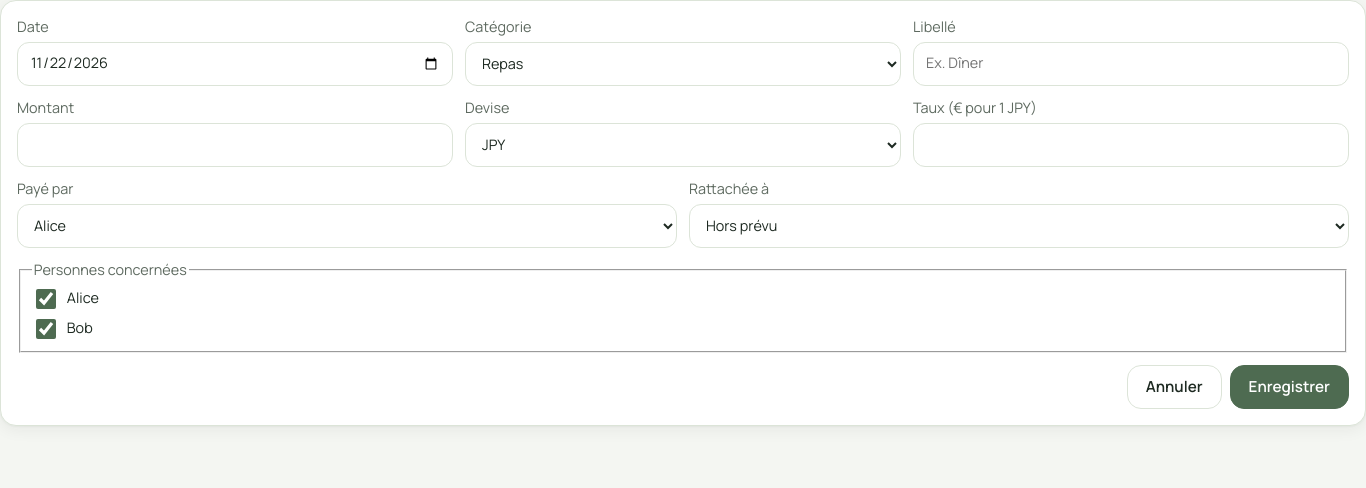
Test case: ExpenseForm — taux de change sûrs › ne propose jamais le taux 1 pour une devise étrangère et refuse d’enregistrer tant qu’il manque
The image size is (1366, 488).
Expected: the field labelled "Taux (€ pour 1 JPY)" is empty, [913,123,1349,167]
In the field labelled "Montant": (235, 145) [17,123,453,167], type "6000"
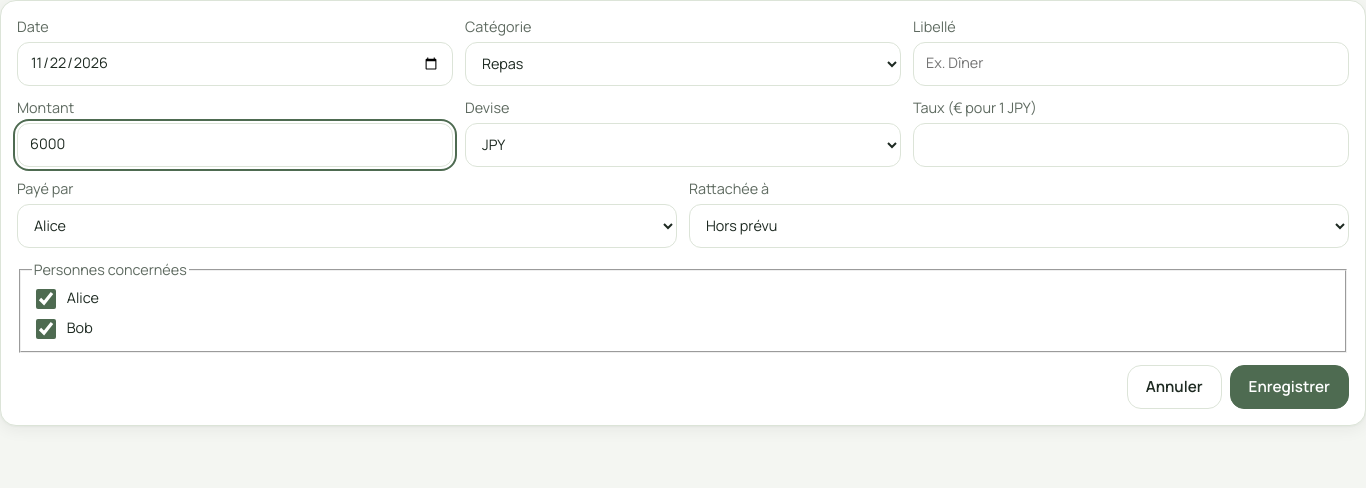
Click the button "Enregistrer": click(1289, 386) [1230,364,1349,408]
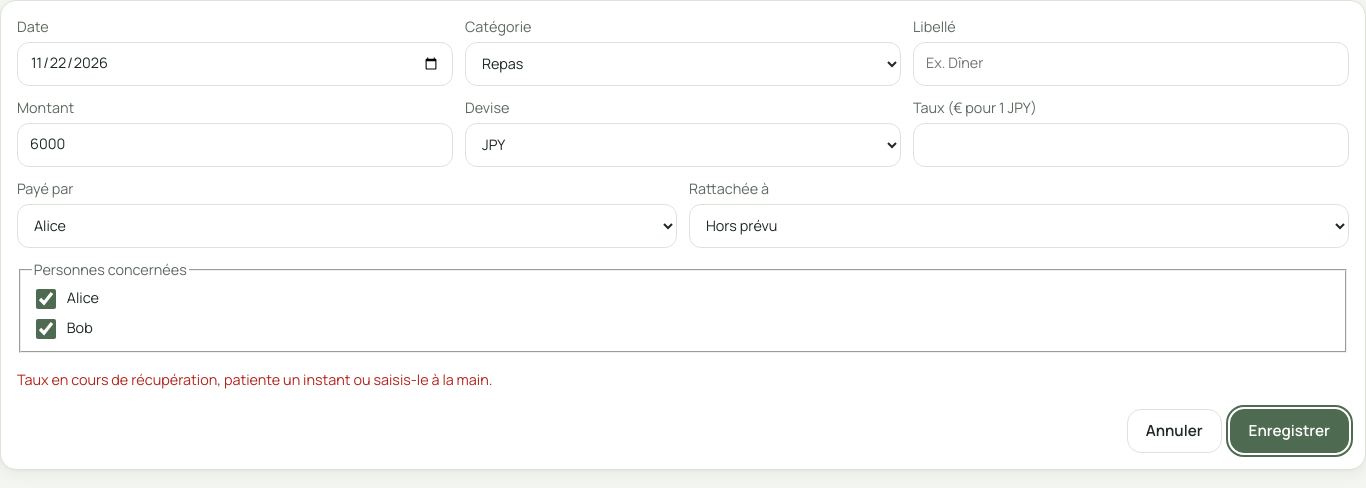
Expected: the text "Taux en cours de récupération, patiente un instant ou saisis-le à la main." is shown, [17,370,492,389]
